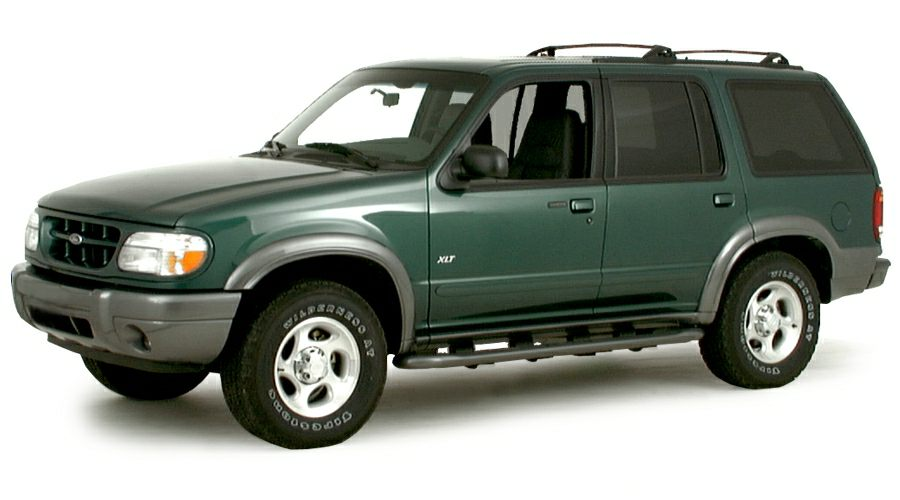Ford Explorer: (9, 33, 893, 451)
